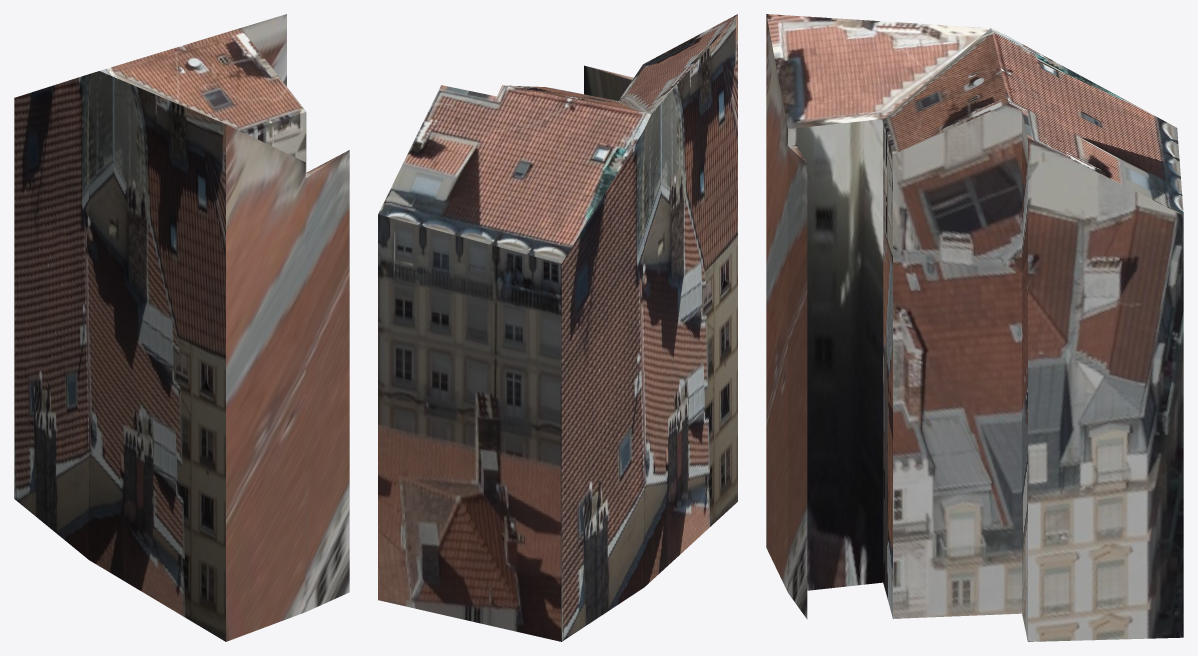
3 renders of one model, left to right at view 1: azimuth 30°, elevation 25°; view 2: azimuth 150°, elevation 25°; view 3: azimuth 270°, elevation 25°, orthographic. The views are drawn at different scales.
Visible parts, largest first — view 1: Z_UP; view 2: Z_UP; view 3: Z_UP.
Part boxes in pixels (bbox=[...]): Z_UP: bbox=[14, 14, 349, 641]; Z_UP: bbox=[378, 14, 737, 641]; Z_UP: bbox=[766, 14, 1183, 641].
Size of the model in its own units: 11.89 by 28.45 by 20.18.
2 materials, 1 textured.
